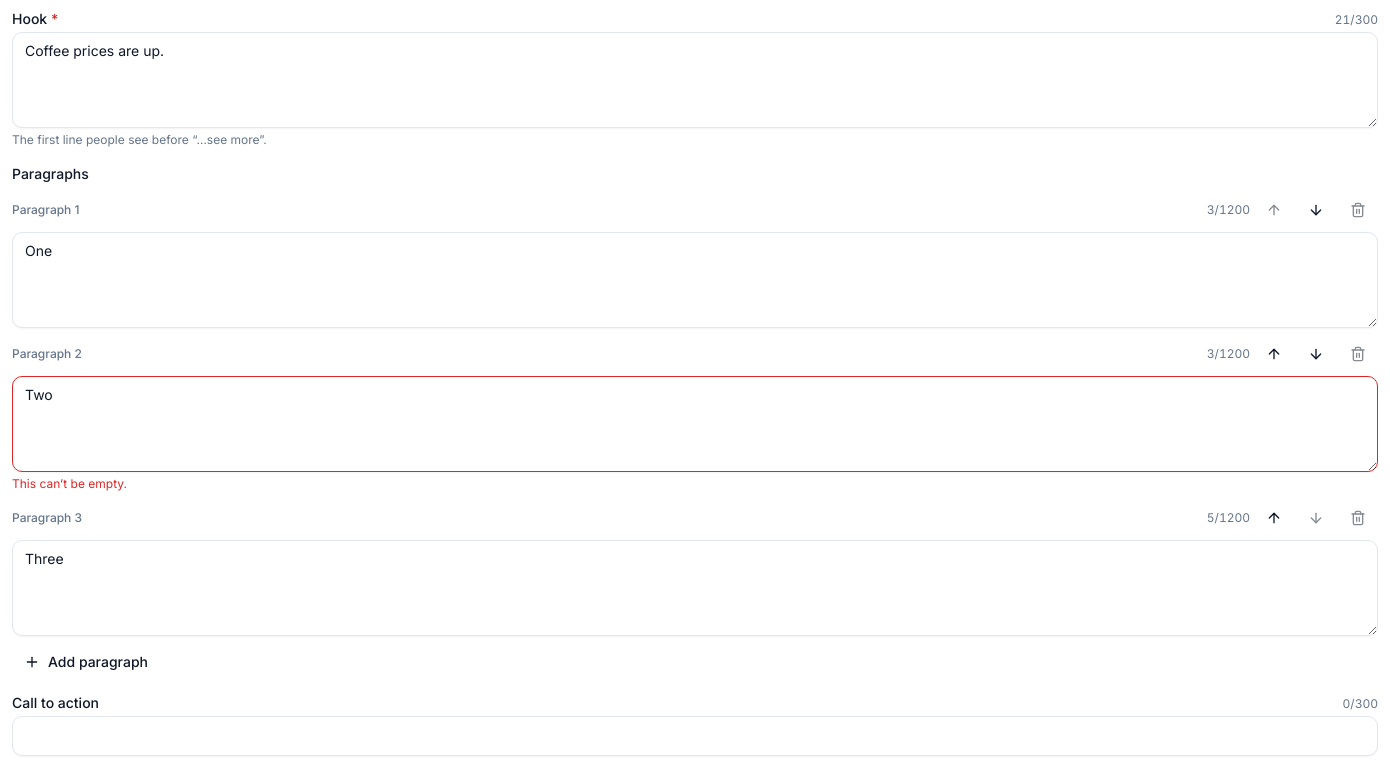
Test case: the form › edits a field and keeps keys the form does not show
This screenshot has width=1390, height=771.
Step 1. Replace the text in the text box labelled "Hook *" with "Coffee prices are rising." → (695, 80), box [12, 32, 1378, 128]
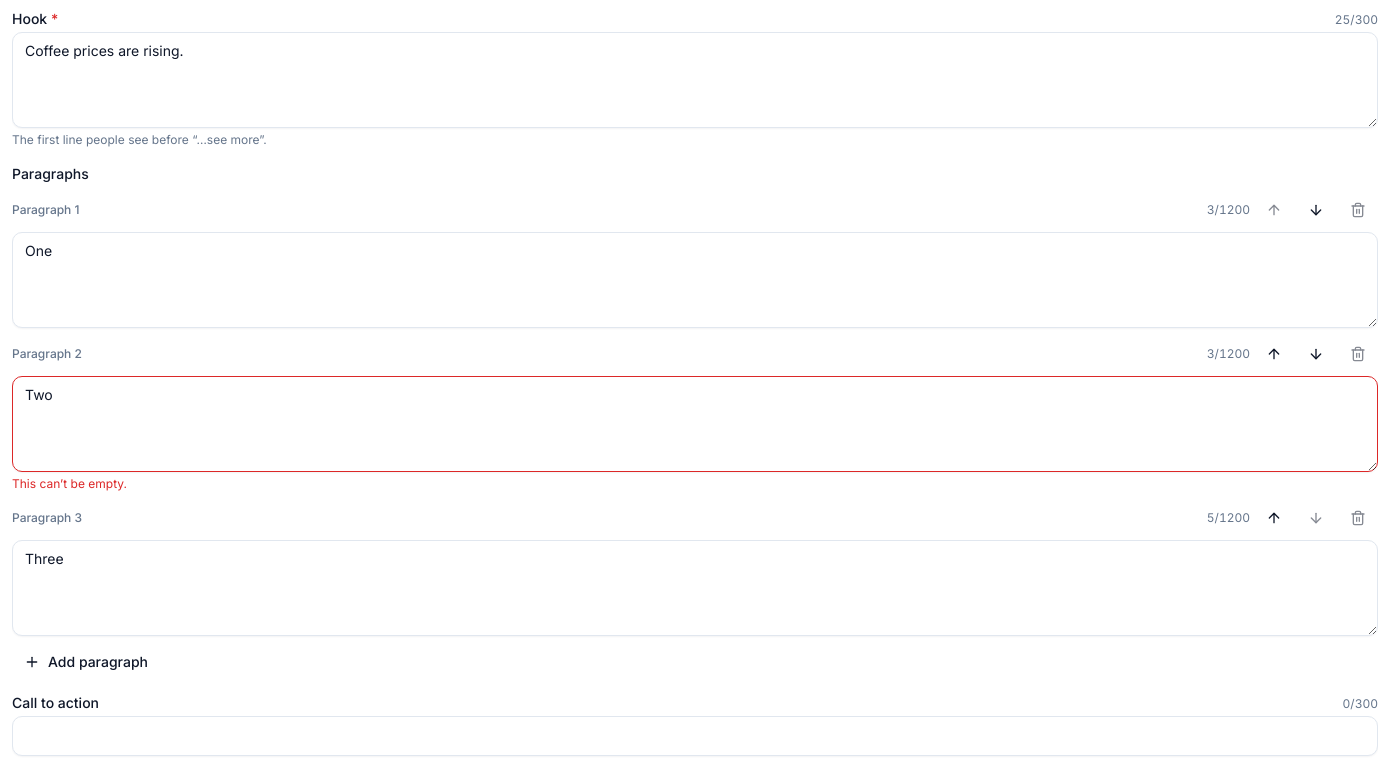
Check: the text "25/300" is shown, box [1335, 12, 1378, 28]
